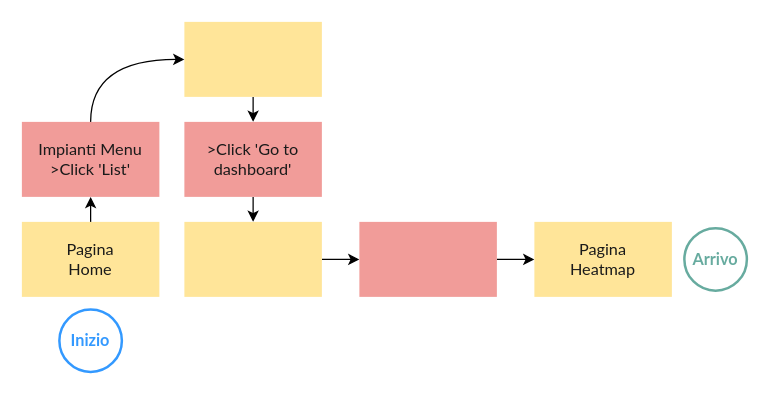
This 769x394 diagram has some shape labels left out. The shapes that lost their labels are listed below. From the top down, each one's centre as x and y in pixels, then its label:
pixel 252 58: Pagina My Impianti List
pixel 252 258: Dashboard
pixel 427 258: >Click 'Heatmap'
